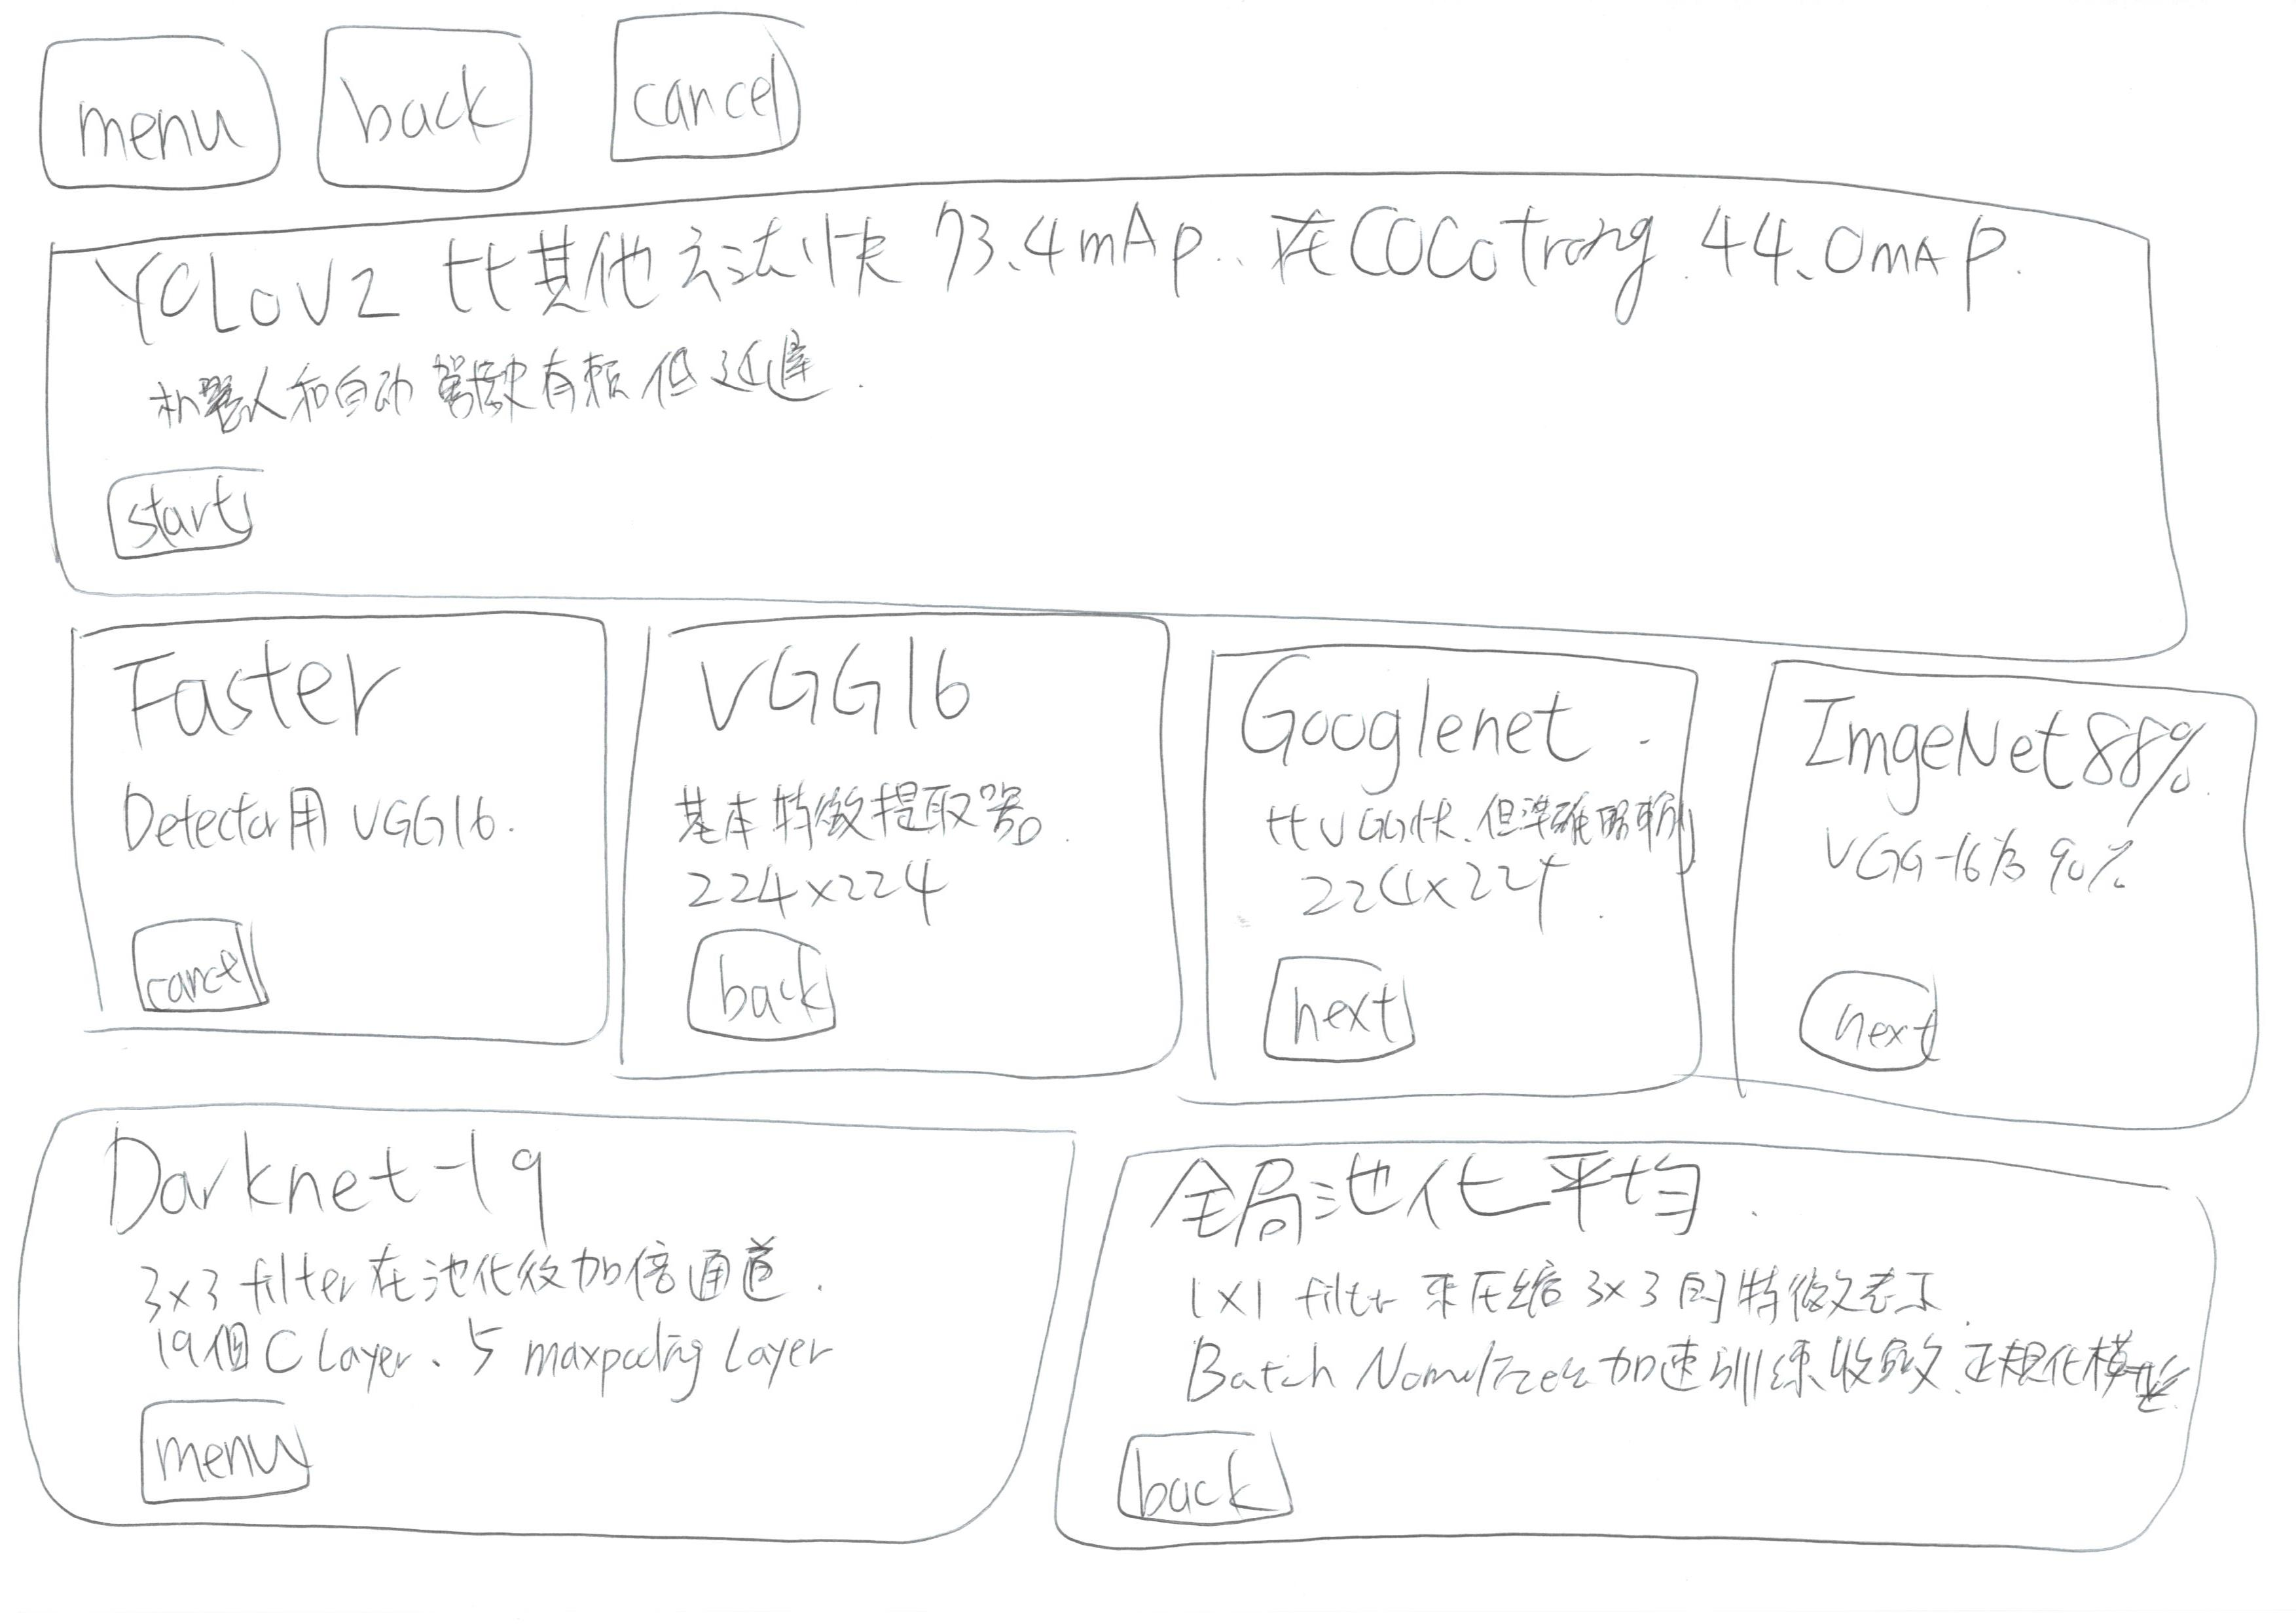back: (299, 0, 559, 207), (1104, 1408, 1331, 1548), (659, 905, 856, 1055)
cancel: (596, 0, 828, 170), (97, 893, 306, 1033)
double: (1028, 1132, 2296, 1601), (0, 1093, 1146, 1577)
menu: (26, 4, 283, 199), (102, 1388, 336, 1512)
next: (1241, 946, 1436, 1076), (1790, 946, 1969, 1083)
quadruple: (1684, 633, 2296, 1185), (608, 582, 1210, 1114), (35, 603, 631, 1081), (1171, 620, 1716, 1127)
single: (4, 587, 2296, 1142), (4, 192, 2296, 687), (4, 1093, 2296, 1587), (32, 192, 2273, 696), (4, 2, 2296, 223)
small-title: (107, 200, 2020, 316), (1225, 645, 1614, 803), (1802, 671, 2196, 814), (1152, 1158, 1719, 1246), (100, 1146, 578, 1246), (100, 638, 427, 784), (680, 629, 1000, 759)
text: (1162, 1276, 2210, 1424), (113, 1237, 847, 1388), (1259, 796, 1693, 942), (666, 763, 1072, 903), (125, 350, 837, 420), (102, 777, 515, 865), (1804, 838, 2147, 902)
